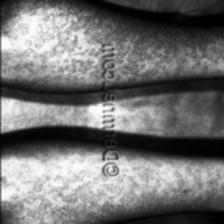Toxin: (62, 13, 108, 37)
